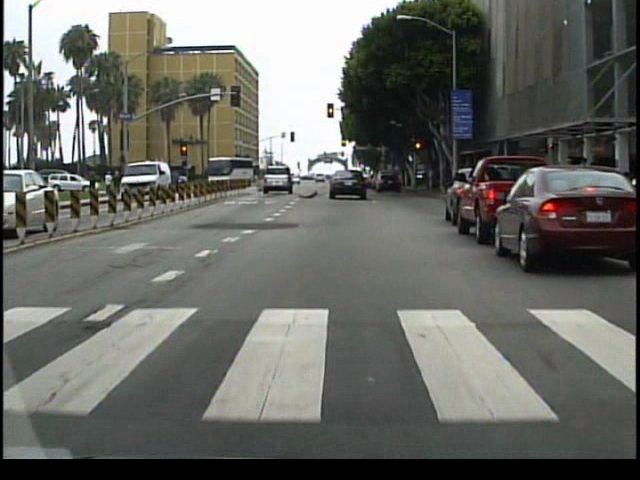person: (108, 170, 125, 206), (87, 170, 100, 198), (105, 171, 117, 197)
